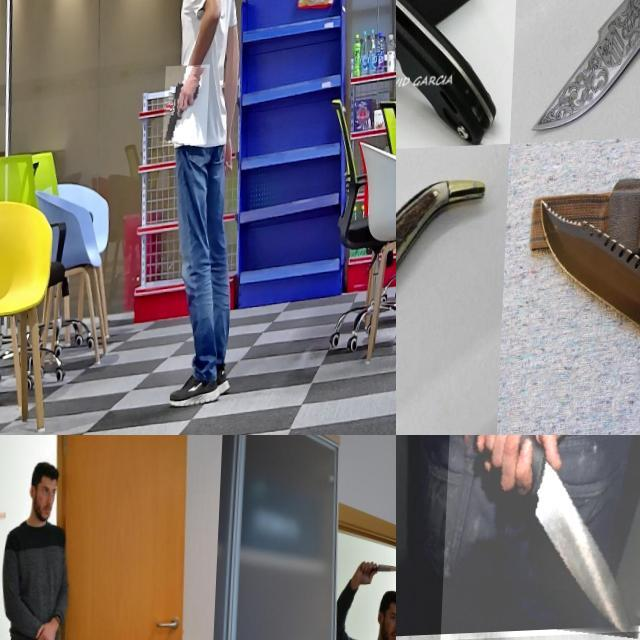-: (444, 435, 640, 640), (5, 435, 160, 591), (535, 193, 640, 348), (530, 0, 640, 139), (396, 299, 465, 435), (396, 0, 456, 66), (365, 561, 396, 584), (380, 435, 396, 457)
gun-knife-thesis - v11 Yolov5 augmented: (165, 68, 212, 150)
